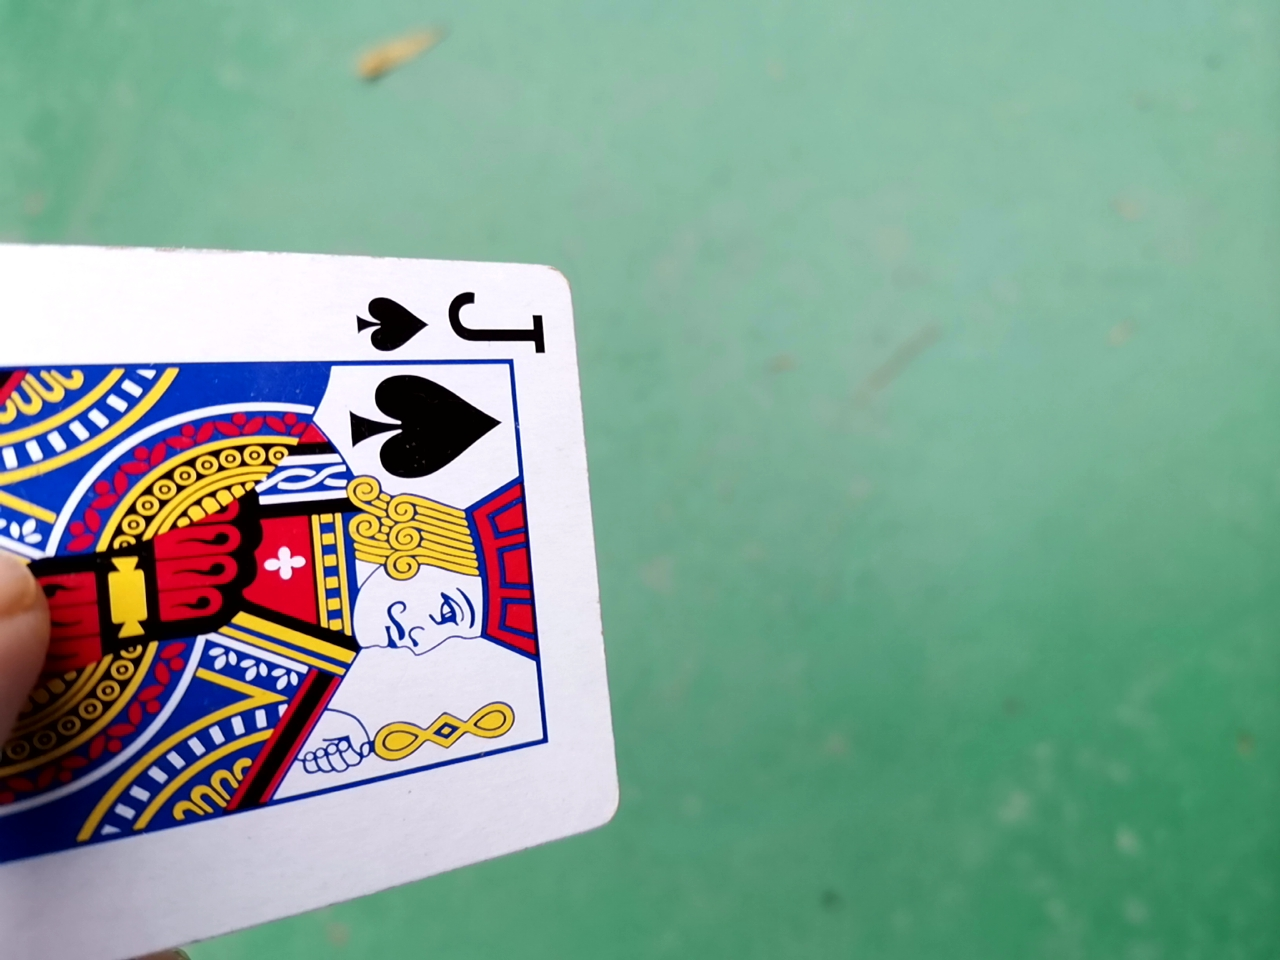ht j: (1, 231, 618, 955)
